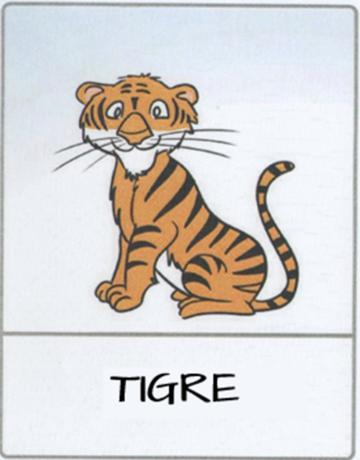tigre: (2, 1, 360, 460)
